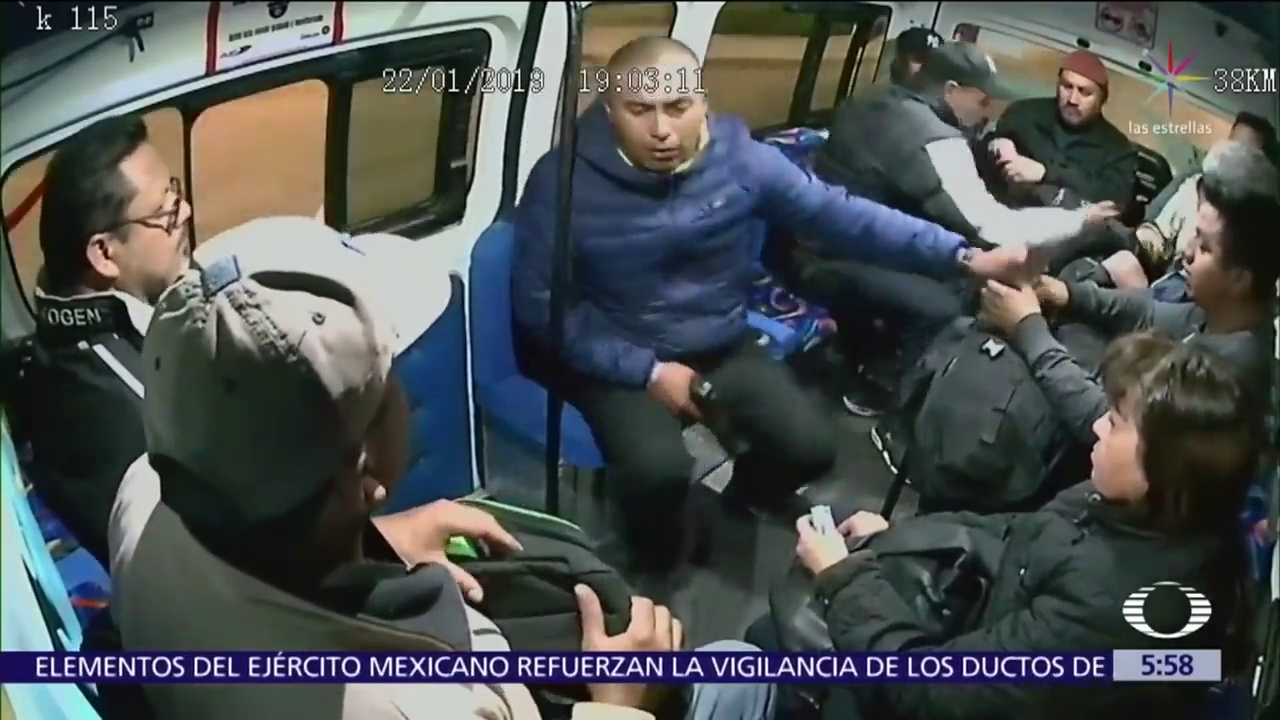pistol: (684, 377, 743, 457)
